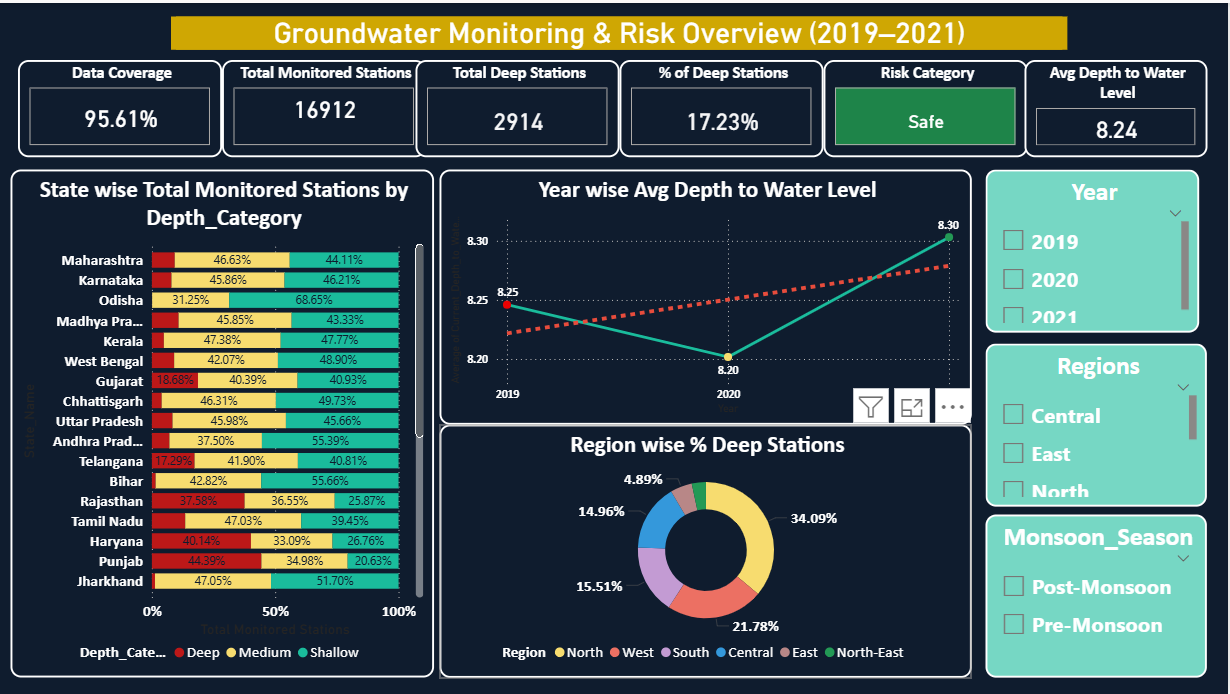

Layout of this report page (visuals, bound fields, positions):
{"tool":"powerbi","page":{"name":"Overview","canvas":[1280,720],"ordinal":0},"visuals":[{"type":"cardVisual","title":"Total Monitored Stations","fields":{"Data":["Measure.Total no of Stations"]},"box":[230.9,58.7,212.7,101.3],"z":0},{"type":"cardVisual","title":"Total Deep Stations","fields":{"Data":["Measure.Total no of Deep Stations"]},"box":[433.4,58.7,212.7,101.3],"z":1000},{"type":"cardVisual","title":"% of Deep Stations","fields":{"Data":["Measure.% Deep Stations"]},"box":[646.1,58.7,212.7,101.3],"z":2000},{"type":"cardVisual","title":"Risk Category","fields":{"Data":["Measure.Risk Category"]},"box":[858.7,58.7,212.7,101.3],"z":3000},{"type":"slicer","title":"Year","fields":{"Values":["Dim_Date.Year"]},"box":[1026.8,174.2,222.8,170.1],"z":4000},{"type":"slicer","title":"Regions","fields":{"Values":["Dim_Region.Region"]},"box":[1026.8,354.4,230.9,170.1],"z":5000},{"type":"slicer","title":"Monsoon_Season","fields":{"Values":["Dim_Date.Monsoon_Season"]},"box":[1026.8,532.7,230.9,170.1],"z":6000},{"type":"cardVisual","title":"Avg Depth to Water Level","fields":{"Data":["Measure.Avg Current_Depth_to_Water_Level"]},"box":[1067.3,58.7,190.4,101.3],"z":7000},{"type":"cardVisual","title":"Data Coverage","fields":{"Data":["Measure.Data Coverage %"]},"box":[18.2,58.7,212.7,101.3],"z":8000},{"type":"textbox","title":"Groundwater Monitoring & Risk Overview (2019–2021)","box":[178.2,14.2,933.7,34.4],"z":9000},{"type":"hundredPercentStackedBarChart","title":"State wise Total Monitored Stations by Depth_Category","fields":{"Category":["Dim_State.State_Name"],"Y":["Measure.Total no of Stations"],"Series":["Fact_Ground_Water.Depth_Catagory"]},"box":[11.6,173.3,441,529.6],"z":10000},{"type":"lineChart","title":"Year wise Avg Depth to Water Level","fields":{"Category":["Dim_Date.Year"],"Y":["Avg(Fact_Ground_Water.Current_Depth_to_Water_Level)"]},"box":[458.3,173.3,554.6,265.8],"z":11000},{"type":"donutChart","title":"Region wise % Deep Stations","fields":{"Category":["Dim_Region.Region"],"Y":["Measure.% Deep Stations"]},"box":[458.3,439.1,554.6,263.8],"z":12000}]}

Visuals, with their boxes in screenshot pixels (x1, y1, x2, y2), scaled from the page's 1280x720 canvas onto the 1230x694 screenshot:
"Total Monitored Stations" cardVisual: (x1=222, y1=57, x2=426, y2=154)
"Total Deep Stations" cardVisual: (x1=416, y1=57, x2=621, y2=154)
"% of Deep Stations" cardVisual: (x1=621, y1=57, x2=825, y2=154)
"Risk Category" cardVisual: (x1=825, y1=57, x2=1030, y2=154)
"Year" slicer: (x1=987, y1=168, x2=1201, y2=332)
"Regions" slicer: (x1=987, y1=342, x2=1209, y2=506)
"Monsoon_Season" slicer: (x1=987, y1=513, x2=1209, y2=677)
"Avg Depth to Water Level" cardVisual: (x1=1026, y1=57, x2=1209, y2=154)
"Data Coverage" cardVisual: (x1=17, y1=57, x2=222, y2=154)
"Groundwater Monitoring & Risk Overview (2019–2021)" textbox: (x1=171, y1=14, x2=1068, y2=47)
"State wise Total Monitored Stations by Depth_Category" hundredPercentStackedBarChart: (x1=11, y1=167, x2=435, y2=678)
"Year wise Avg Depth to Water Level" lineChart: (x1=440, y1=167, x2=973, y2=423)
"Region wise % Deep Stations" donutChart: (x1=440, y1=423, x2=973, y2=678)
